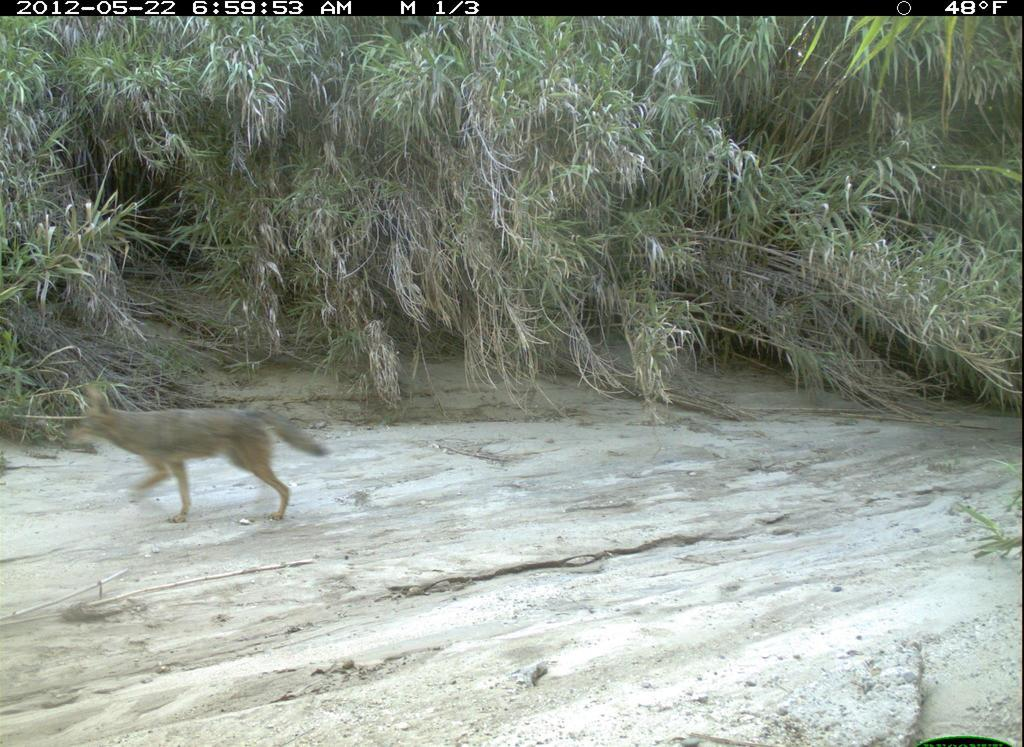coyote: (56, 372, 340, 530)
